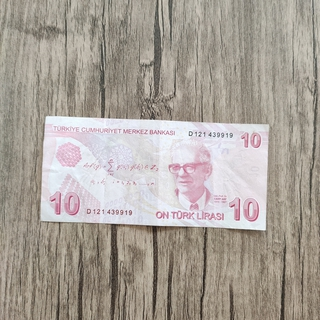10TLBack: (38, 114, 270, 232)
